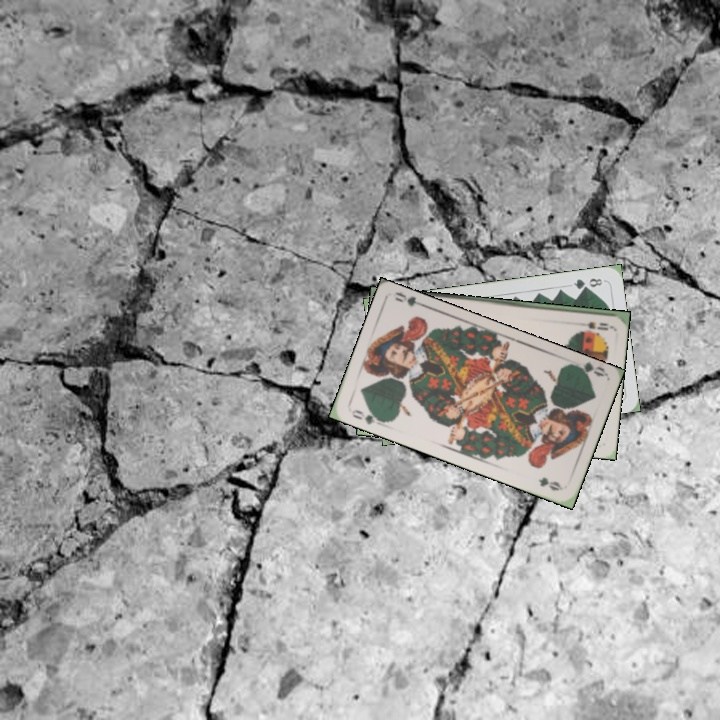G8: (569, 274, 605, 292)
GO: (566, 359, 607, 381), (348, 405, 386, 427)
SO: (572, 317, 612, 333)
